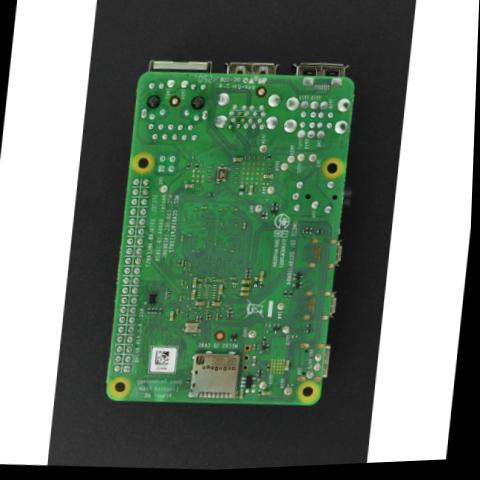Raspberry-Pi-4-Model-B: (98, 46, 369, 426)
